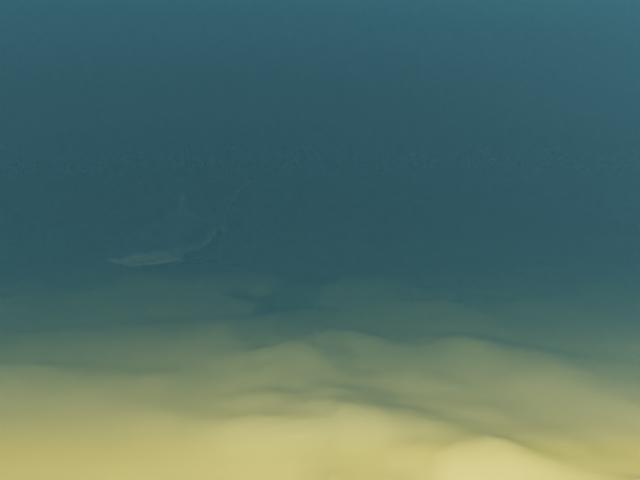Carribean Shark.001: (106, 175, 252, 265)
